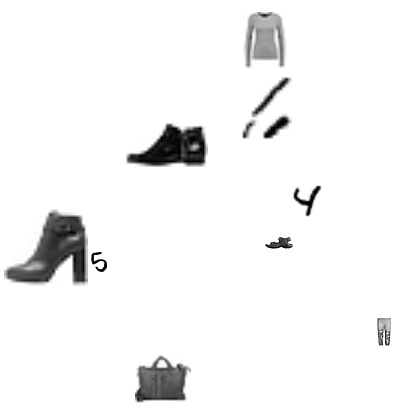4: (285, 177, 327, 219)
5: (84, 248, 112, 276)
6: (228, 69, 312, 153)
Ankle_boot: (124, 103, 208, 187), (4, 204, 88, 288)
Bag: (135, 350, 191, 406)
Pullover: (236, 12, 292, 68)
Sandal: (265, 228, 293, 256)
Trouser: (370, 318, 398, 346)
